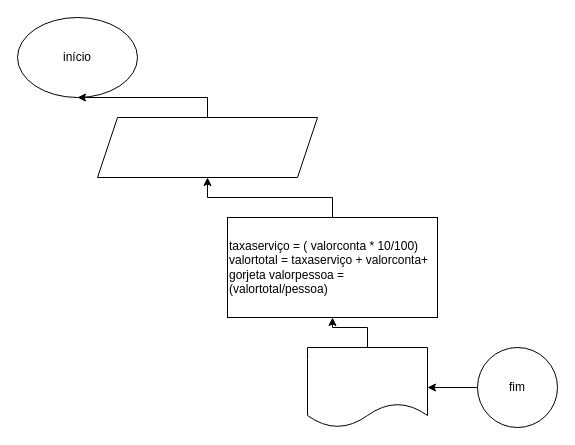
Some shapes in this 575 by 445 pixel diagram are drawn without their labels. Each missing label, with the centre of its shape:
valorconta, valorgorjeta, pessoas: the point at 207,147
valorpessoa: the point at 367,387
